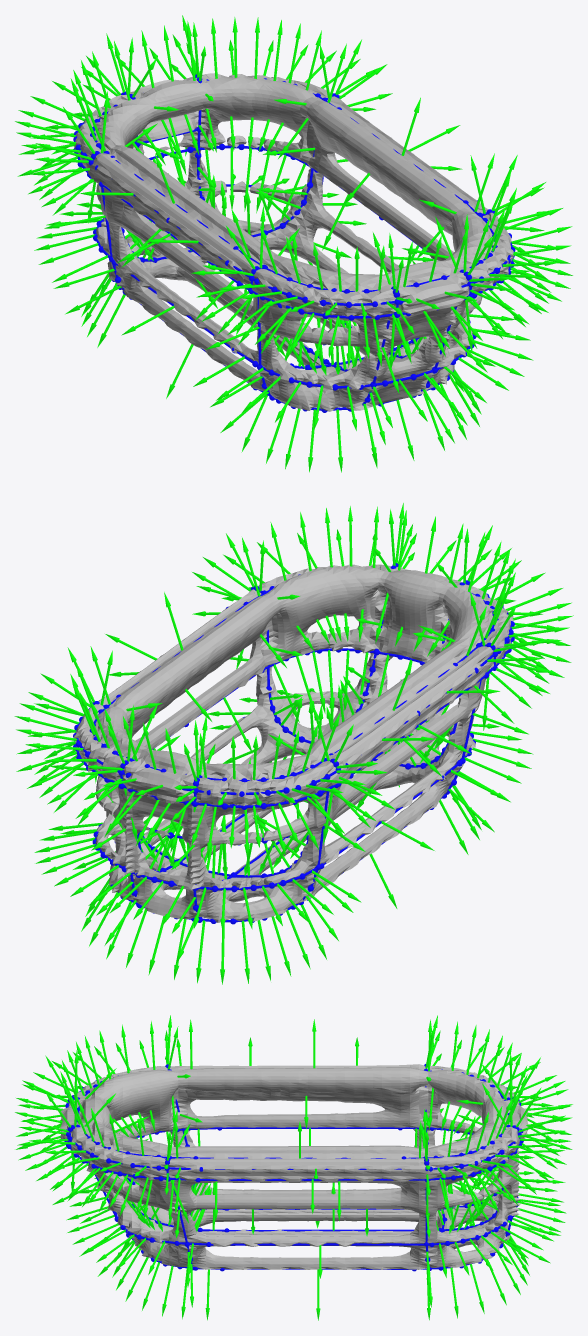
File: flowrep_bathtub.gltf
The picture shows the model from 3 angles, top to bottom: view 1: azimuth 30°, elevation 25°; view 2: azimuth 150°, elevation 25°; view 3: azimuth 270°, elevation 25°; orthographic projection. The views are drawn at different scales.
Bounding box in the file's own units: 0.6369 × 0.4353 × 1.05.
